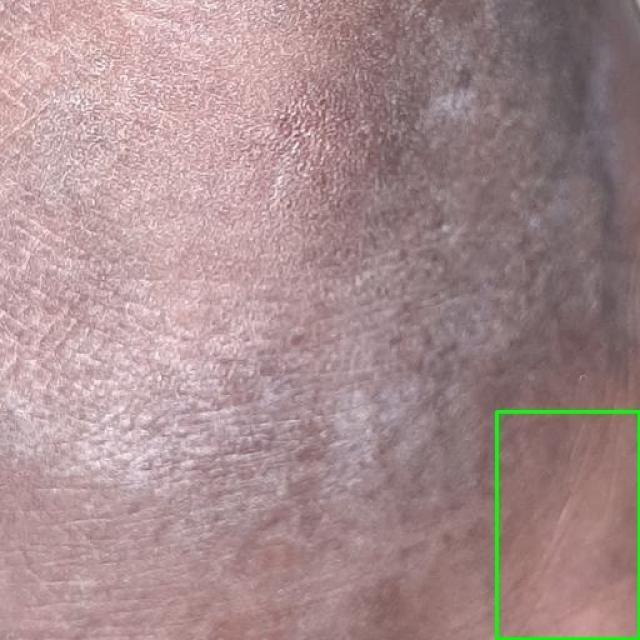Contact Dermatitis: (496, 411, 639, 639)
